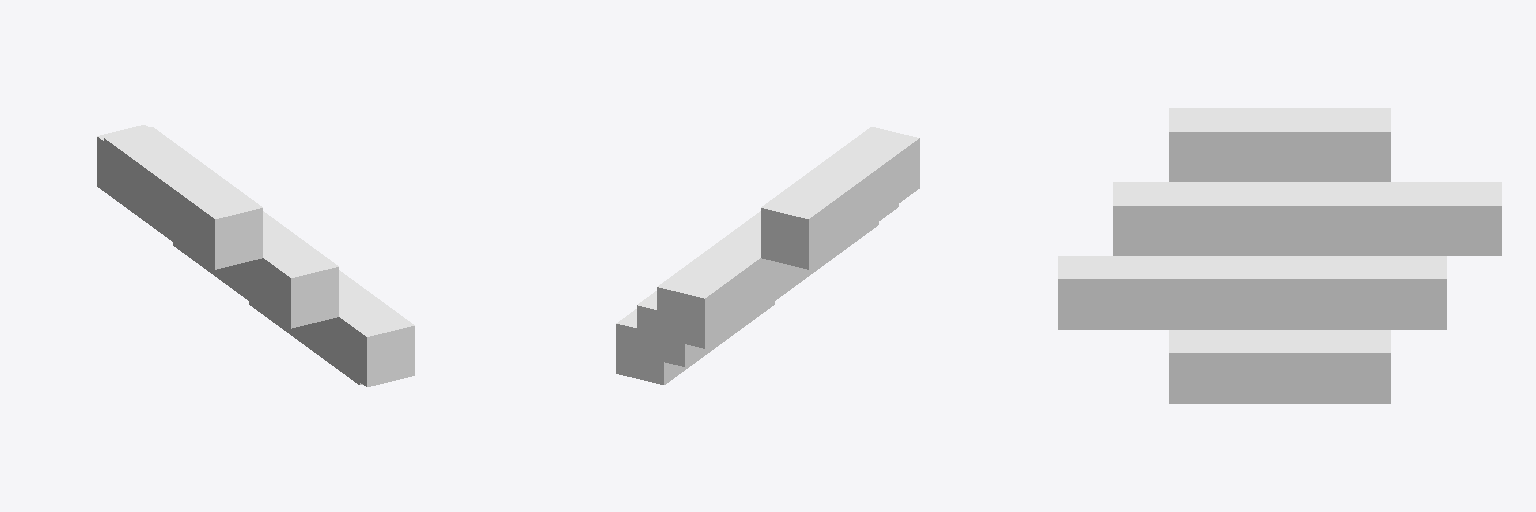
File: YellowHouseParts-112.obj
3 views of the same model, side by side, from view 1: azimuth 30°, elevation 25°; view 2: azimuth 150°, elevation 25°; view 3: azimuth 270°, elevation 25° (orthographic).
Visible parts, largest first — view 1: object 1; view 2: object 1; view 3: object 1.
Boxes of the visible parts, box(x1,y1,x2,y2) form: object 1: box(97, 125, 414, 386); object 1: box(616, 127, 919, 384); object 1: box(1058, 108, 1501, 403).
Size of the model in its own units: 0.4 by 0.4 by 0.8.